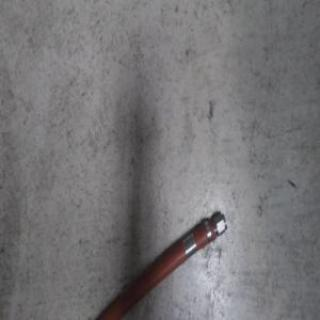Hosetrack_idkeyframe: (70, 207, 228, 319)
